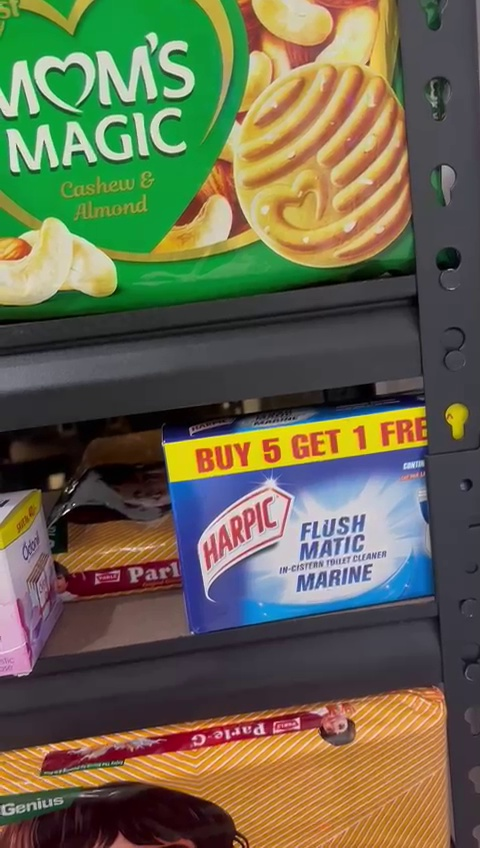Harpic: (158, 416, 454, 633)
